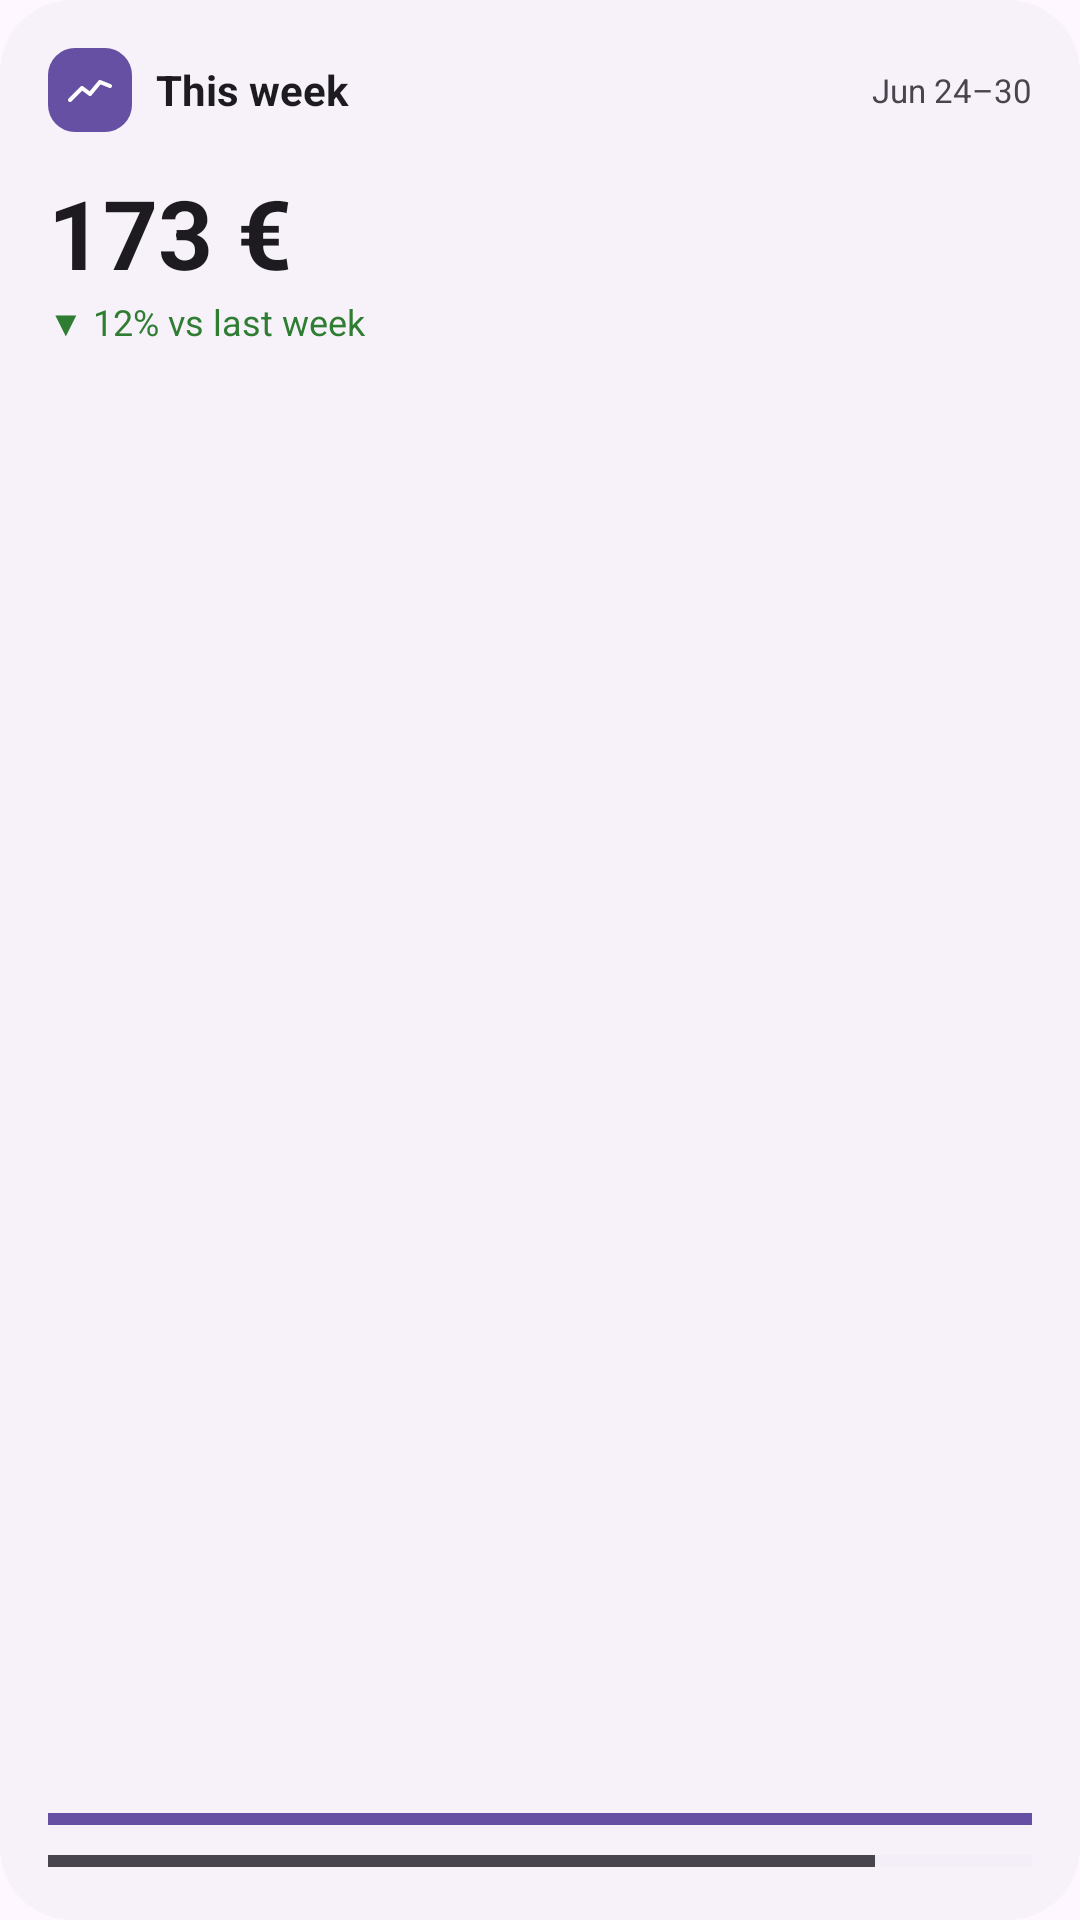

Icon click points for this 1080×1920 phone screenshot, format [x,y]:
widget trend: [90,90]
